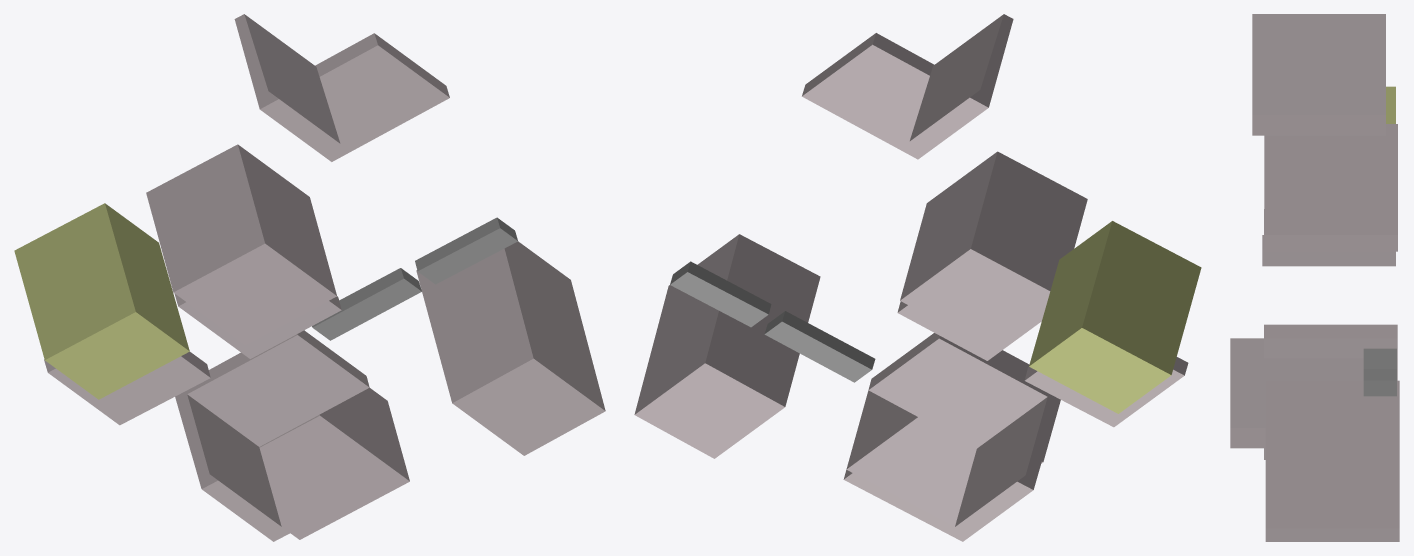
The picture shows the model from 3 angles, left to right: view 1: azimuth 30°, elevation 25°; view 2: azimuth 150°, elevation 25°; view 3: azimuth 270°, elevation 25°; orthographic projection. The views are drawn at different scales.
Visible parts, largest first — view 1: 0_2_1_3_3_3_3_1_2; view 2: 0_2_1_3_3_3_3_1_2; view 3: 0_2_1_3_3_3_3_1_2.
Part boxes in pixels (x1,y1,x2,y2): 0_2_1_3_3_3_3_1_2: (14,14,605,541); 0_2_1_3_3_3_3_1_2: (634,14,1201,541); 0_2_1_3_3_3_3_1_2: (1230,14,1399,541).
Bounding box in the file's own units: 50.12 × 43.28 × 15.17.
